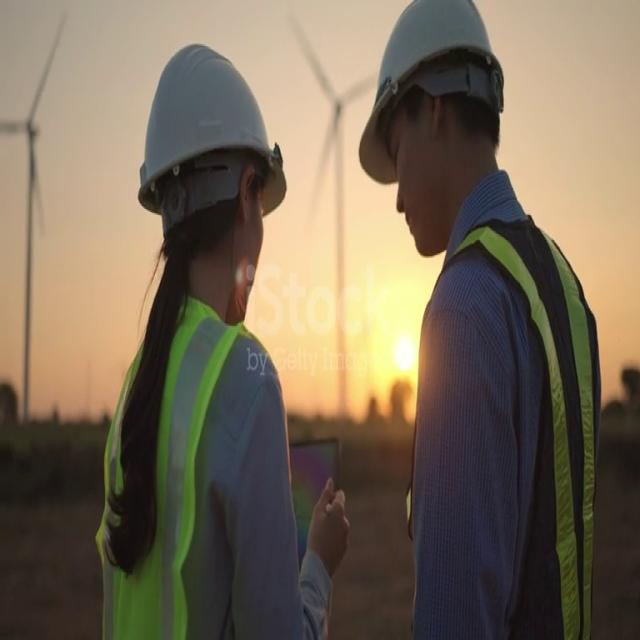capacete: (130, 21, 298, 230), (349, 0, 518, 202)
